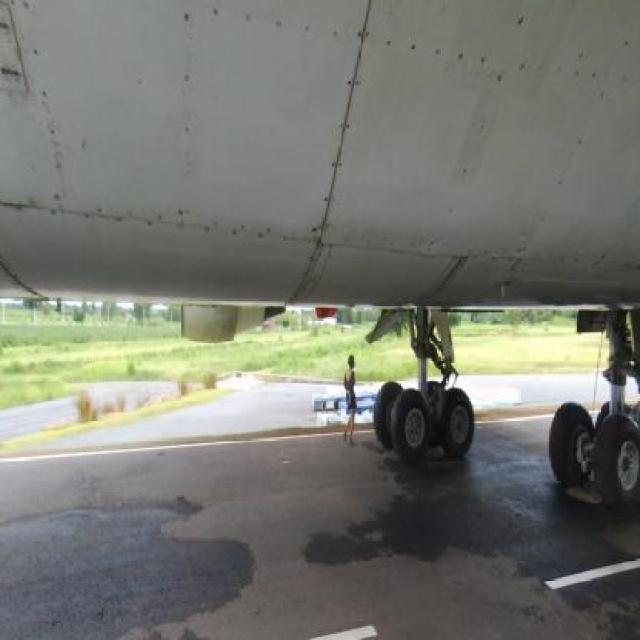Missing-Rivet: (293, 2, 595, 96), (92, 196, 398, 284), (310, 14, 378, 251), (528, 66, 612, 251), (173, 11, 212, 214)
Scartch: (37, 89, 114, 188), (2, 18, 42, 92)
